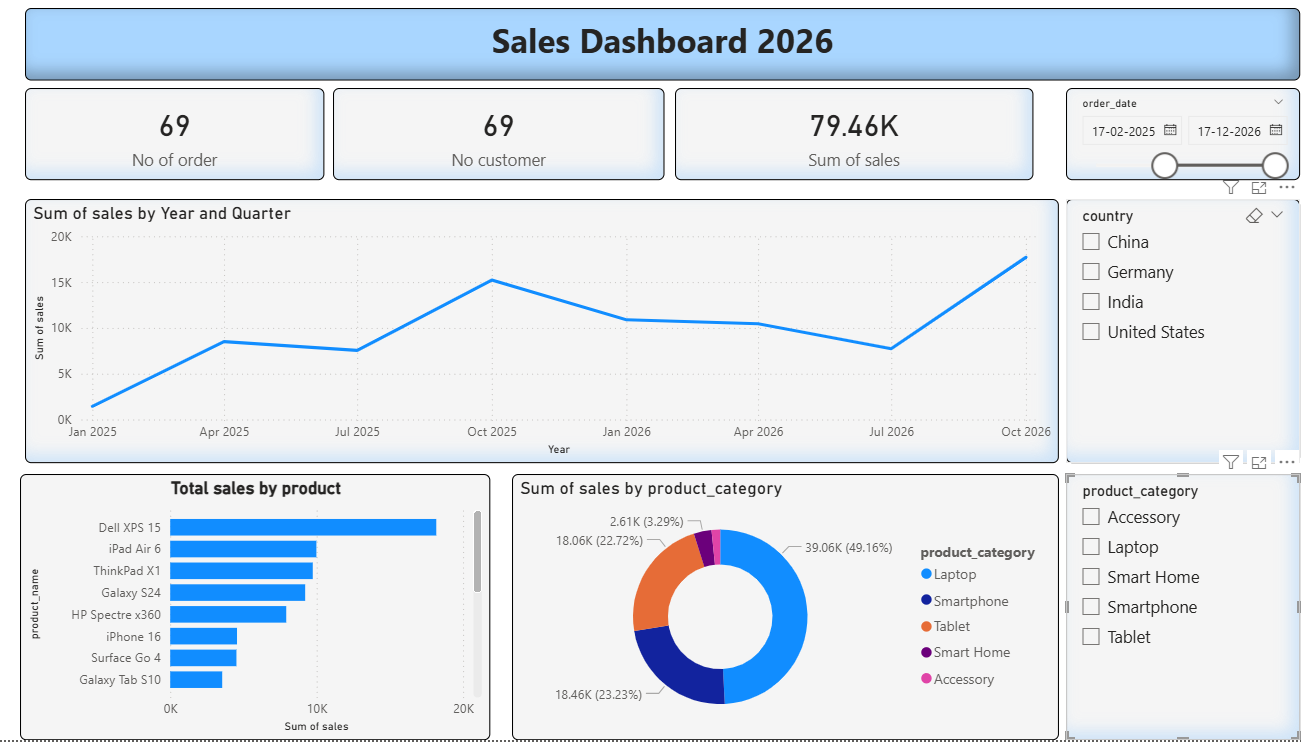

This screenshot's page, from the dashboard's own definition file:
{"tool":"powerbi","page":{"name":"Page 1","canvas":[1280,720],"ordinal":0},"visuals":[{"type":"barChart","title":"Total sales by product ","fields":{"Y":["Sum(orders.sales)"],"Category":["orders.product_name"]},"box":[36.7,463.3,453.7,256.8],"z":0},{"type":"donutChart","fields":{"Y":["Sum(orders.sales)"],"Category":["orders.product_category"]},"box":[511.6,463.3,528,256.8],"z":1000},{"type":"card","fields":{"Values":["CountNonNull(orders.order_id)"]},"box":[55,55,156.4,124.5],"z":2000},{"type":"card","fields":{"Values":["CountNonNull(orders.customer_id)"]},"box":[299.2,55,258.7,124.5],"z":3000},{"type":"card","fields":{"Values":["Sum(orders.sales)"]},"box":[640,84.9,258.7,124.5],"z":4000},{"type":"lineChart","fields":{"Category":["orders.order_date.Variation.Date Hierarchy.Year","orders.order_date.Variation.Date Hierarchy.Quarter","orders.order_date.Variation.Date Hierarchy.Month","orders.order_date.Variation.Date Hierarchy.Day"],"Y":["Sum(orders.sales)"]},"box":[41.5,197.9,998.1,254.8],"z":5000},{"type":"slicer","fields":{"Values":["customers.country"]},"box":[1030,296.3,250,179.5],"z":6000},{"type":"slicer","fields":{"Values":["orders.product_category"]},"box":[1039.6,538.6,240.4,160.2],"z":7000},{"type":"slicer","fields":{"Values":["orders.order_date"]},"box":[1039.6,99.4,240.4,126.5],"z":7001}]}

Visuals, with their boxes in screenshot pixels (x1, y1, x2, y2):
"Total sales by product " barChart: <region>14, 468, 486, 735</region>
donutChart - Sum(orders.sales) x orders.product_category: <region>508, 468, 1057, 735</region>
card - CountNonNull(orders.order_id): <region>33, 44, 196, 173</region>
card - CountNonNull(orders.customer_id): <region>287, 44, 556, 173</region>
card - Sum(orders.sales): <region>641, 75, 910, 204</region>
lineChart - orders.order_date.Variation.Date Hierarchy.Year x orders.order_date.Variation.Date Hierarchy.Quarter: <region>19, 192, 1057, 457</region>
slicer - customers.country: <region>1047, 294, 1300, 481</region>
slicer - orders.product_category: <region>1057, 546, 1300, 713</region>
slicer - orders.order_date: <region>1057, 90, 1300, 221</region>
